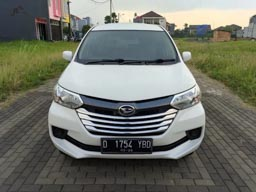plat: (101, 137, 155, 148)
